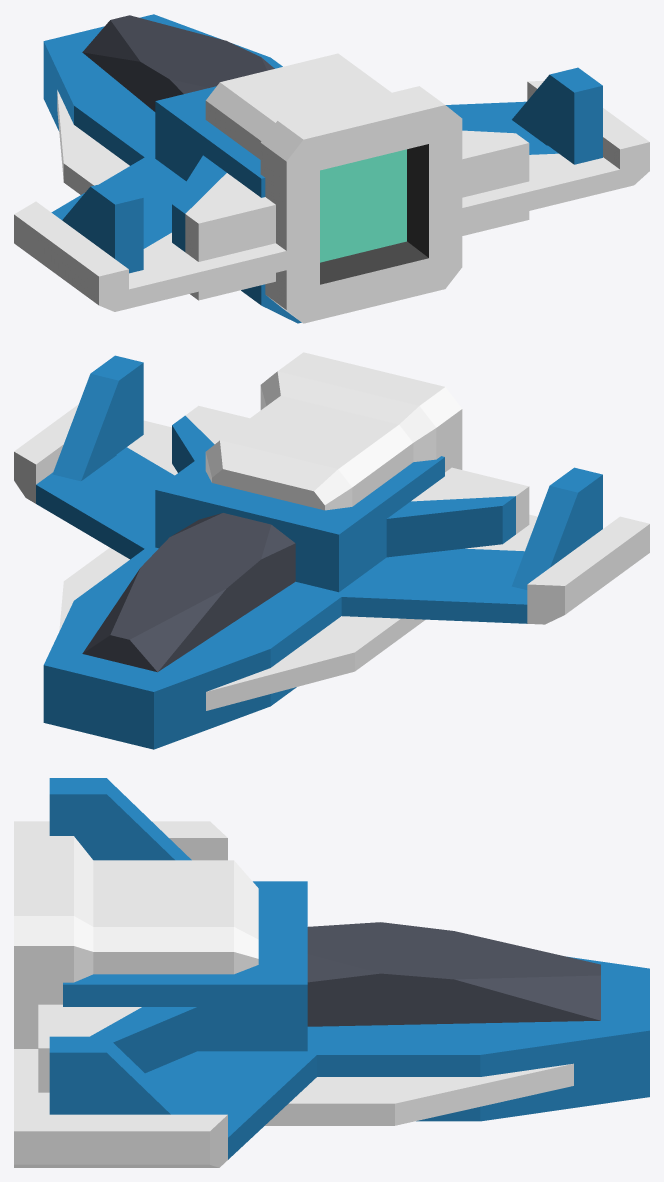
Rendered from Spaceship obj unmerged.obj.
3 renders of one model, top to bottom at view 1: azimuth 30°, elevation 25°; view 2: azimuth 150°, elevation 25°; view 3: azimuth 270°, elevation 25°, orthographic. The views are drawn at different scales.
Parts seen in each view (by area): view 1: engine_large_47, wind_endLow_38, wind_endLow_39, glass_high_19, wing_endLong_40, plane_elevator_31, block_default_35, plane_rudder_43, wing_endLong_41, plane_rudder_42, plane_elevator_33, block_default_24 (+1 smaller); view 2: engine_large_47, glass_high_19, wind_endLow_38, block_default_35, wind_endLow_39, plane_elevator_31, block_default_24, wing_endLong_40, plane_elevator_33, plane_rudder_43, plane_rudder_42, plane_elevator_32 (+2 smaller); view 3: engine_large_47, glass_high_19, wind_endLow_39, plane_elevator_32, block_default_35, plane_elevator_34, plane_rudder_43, wing_endLong_41, plane_rudder_42, block_default_24, wind_endLow_38.
Boxes of the visible parts, x1=… form: engine_large_47: x1=205, y1=53, x2=462, y2=323; wind_endLow_38: x1=14, y1=151, x2=300, y2=311; wind_endLow_39: x1=446, y1=80, x2=649, y2=230; glass_high_19: x1=82, y1=15, x2=274, y2=111; wing_endLong_40: x1=172, y1=155, x2=275, y2=300; plane_elevator_31: x1=43, y1=41, x2=155, y2=165; block_default_35: x1=155, y1=86, x2=265, y2=293; plane_rudder_43: x1=512, y1=67, x2=602, y2=164; wing_endLong_41: x1=462, y1=119, x2=529, y2=235; plane_rudder_42: x1=62, y1=179, x2=143, y2=273; plane_elevator_33: x1=57, y1=90, x2=129, y2=194; block_default_24: x1=44, y1=14, x2=168, y2=122; engine_large_47: x1=205, y1=352, x2=462, y2=510; glass_high_19: x1=82, y1=513, x2=295, y2=672; wind_endLow_38: x1=339, y1=514, x2=649, y2=624; block_default_35: x1=155, y1=453, x2=444, y2=592; wind_endLow_39: x1=14, y1=404, x2=177, y2=559; plane_elevator_31: x1=154, y1=583, x2=344, y2=749; block_default_24: x1=43, y1=581, x2=301, y2=749; wing_endLong_40: x1=386, y1=467, x2=529, y2=557; plane_elevator_33: x1=206, y1=616, x2=425, y2=710; plane_rudder_43: x1=52, y1=355, x2=143, y2=481; plane_rudder_42: x1=511, y1=467, x2=602, y2=589; plane_elevator_32: x1=44, y1=546, x2=158, y2=664; engine_large_47: x1=14, y1=836, x2=258, y2=1048; glass_high_19: x1=307, y1=922, x2=600, y2=1026; wind_endLow_39: x1=14, y1=1041, x2=331, y2=1167; plane_elevator_32: x1=307, y1=1030, x2=649, y2=1121; block_default_35: x1=63, y1=881, x2=307, y2=1051; plane_elevator_34: x1=265, y1=1063, x2=573, y2=1125; plane_rudder_43: x1=49, y1=1036, x2=187, y2=1114; wing_endLong_41: x1=38, y1=1004, x2=197, y2=1092; plane_rudder_42: x1=49, y1=778, x2=191, y2=860; block_default_24: x1=307, y1=968, x2=649, y2=1030; wind_endLow_38: x1=14, y1=821, x2=227, y2=860.
Bounding box in the file's own units: 3 × 1.06 × 2.6.
